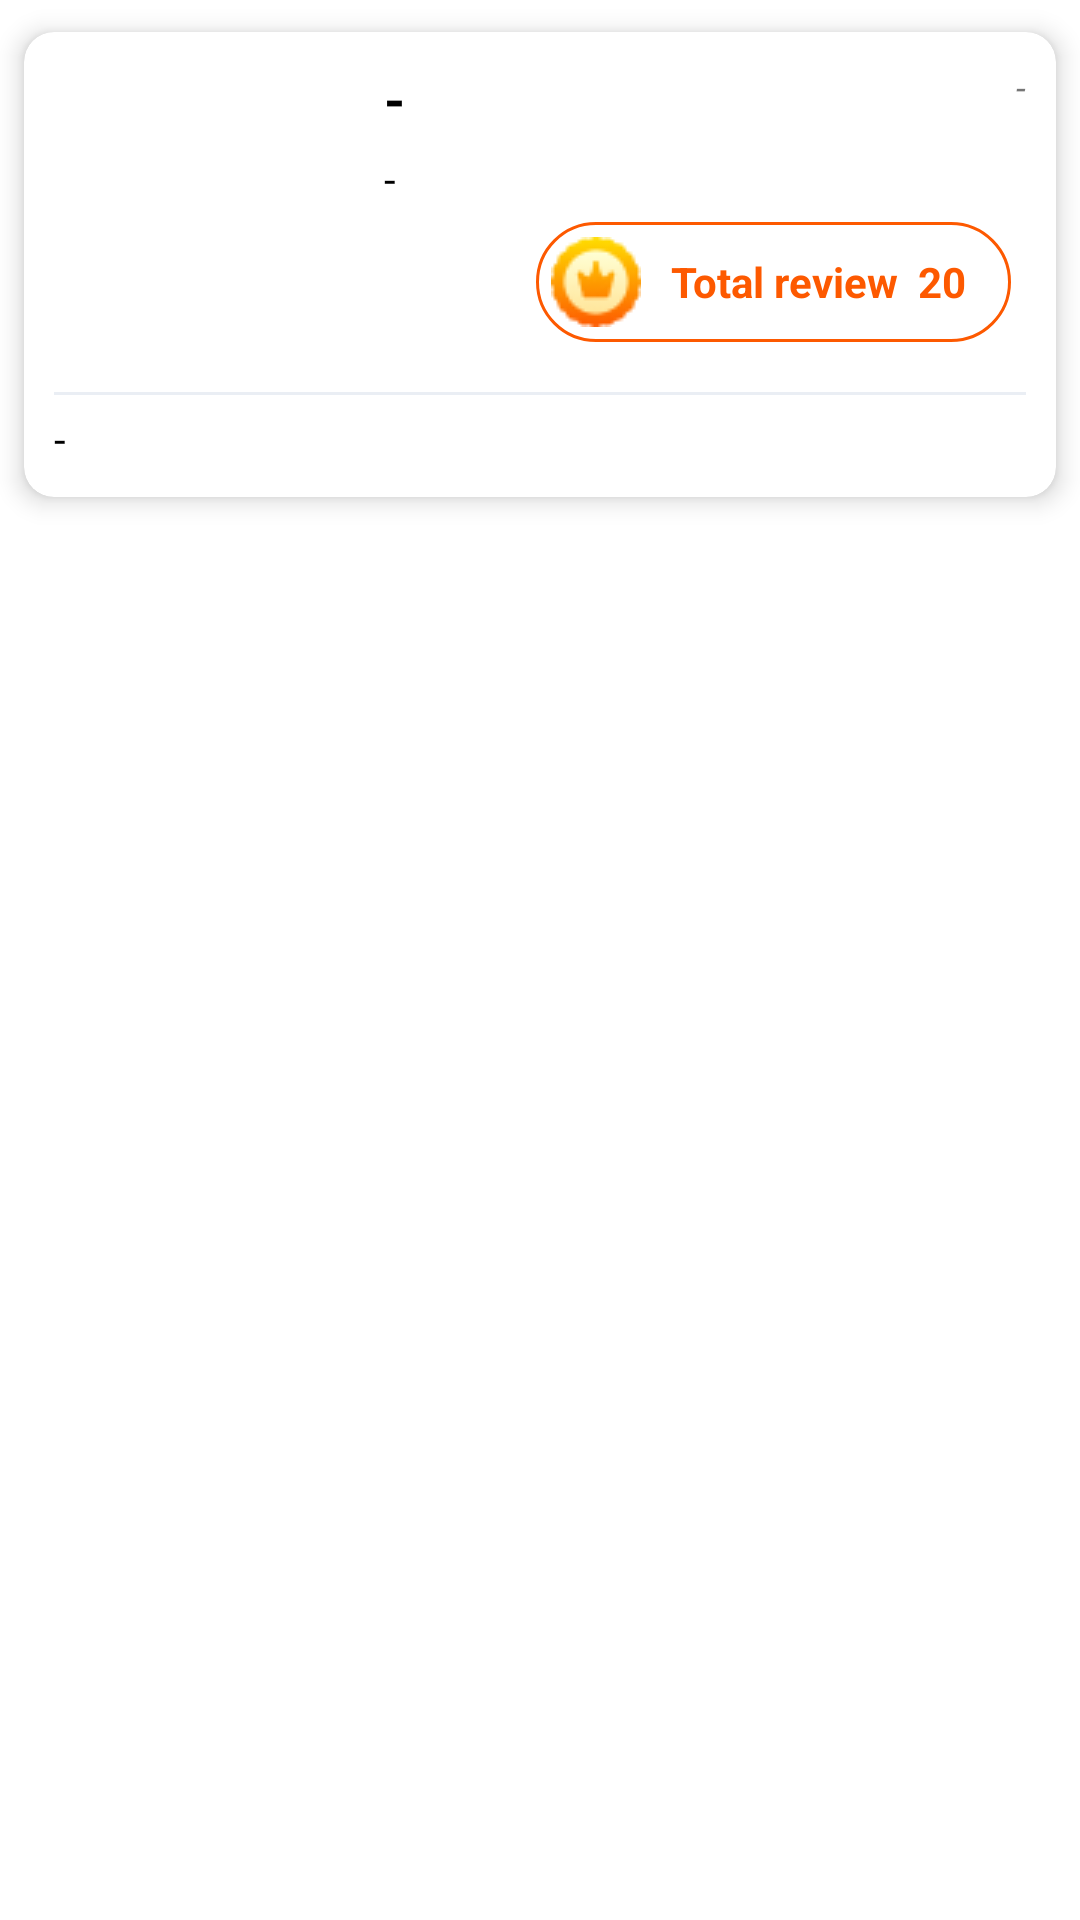

Where to tap for icons on this 1080 × 1920 app screen, as (x,y):
premium: (596,282)
